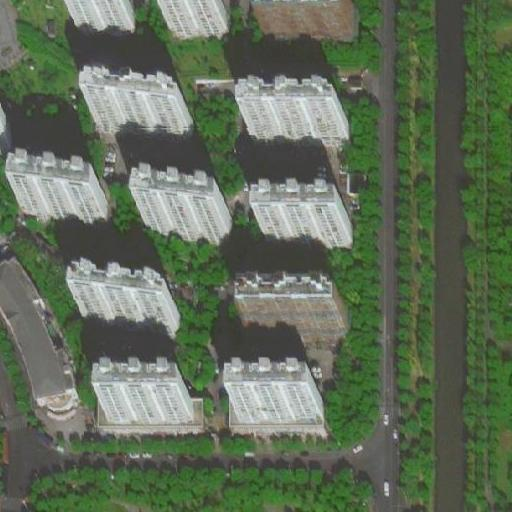building: (223, 362, 326, 434), (235, 282, 339, 322), (24, 175, 108, 218), (97, 108, 197, 142), (87, 302, 178, 337), (258, 119, 355, 149), (64, 1, 141, 38), (158, 2, 235, 39), (149, 210, 237, 242), (264, 218, 351, 246), (110, 397, 193, 422), (344, 167, 367, 192)
